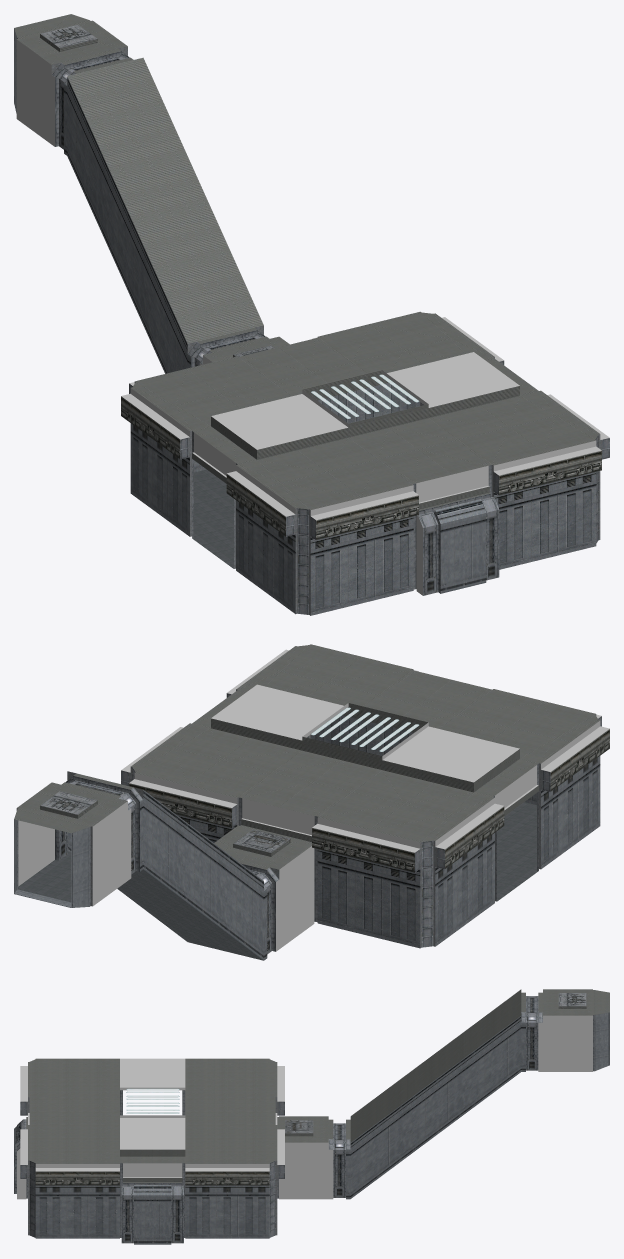
File: poi_all_impl_bunker_imperial_prison_s01_r4_entrance_mesh_r4.fbx
3 renders of one model, top to bottom at view 1: azimuth 30°, elevation 25°; view 2: azimuth 150°, elevation 25°; view 3: azimuth 270°, elevation 25°, orthographic. The views are drawn at different scales.
Parts seen in each view (by area): view 1: mesh_node; view 2: mesh_node; view 3: mesh_node.
Part boxes in pixels (left/top/right/bottom): mesh_node: left=14, top=14, right=609, bottom=615; mesh_node: left=14, top=644, right=609, bottom=960; mesh_node: left=14, top=989, right=609, bottom=1244.
Bounding box in the file's own units: 17.4 × 13.2 × 38.25.
